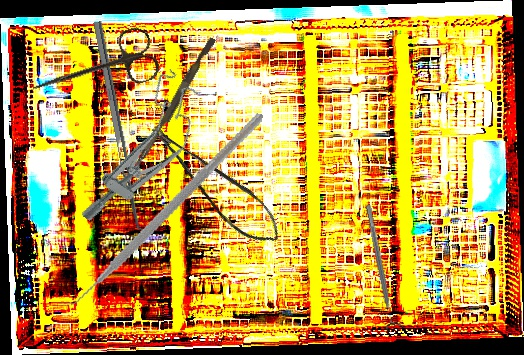Chopper: (52, 78, 264, 339)
Fixation Ring: (358, 202, 405, 333)
Iris Scissors: (24, 23, 163, 118)
Micro Scissor: (147, 104, 289, 259)
Pusher: (129, 34, 217, 179)
Spatula Surgical: (93, 19, 152, 238)
Speculum: (69, 65, 218, 243)
